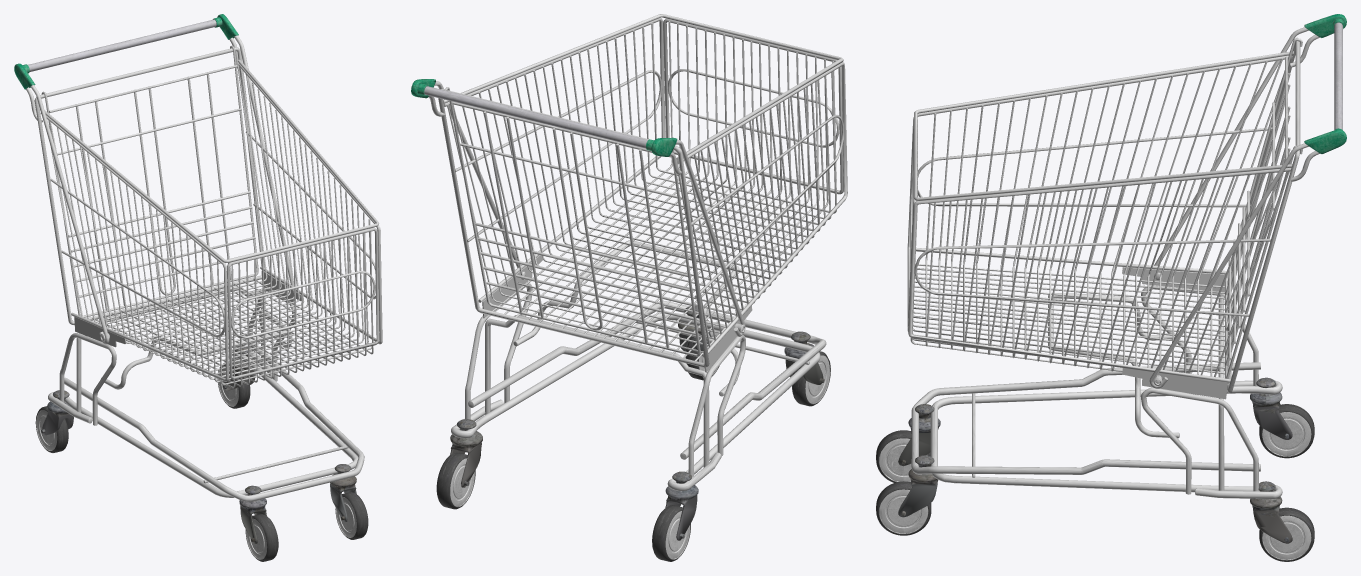
The model's file is trolley.opt.glb.
The picture shows the model from 3 angles, left to right: view 1: azimuth 30°, elevation 25°; view 2: azimuth 150°, elevation 25°; view 3: azimuth 270°, elevation 25°; orthographic projection. The views are drawn at different scales.
Parts seen in each view (by area): view 1: Basket_A, Basket_B; view 2: Basket_A, Basket_B; view 3: Basket_A, Basket_B.
Boxes of the visible parts, bbox=[...] form: Basket_A: bbox=[34, 47, 382, 561]; Basket_B: bbox=[14, 14, 373, 501]; Basket_A: bbox=[436, 14, 847, 561]; Basket_B: bbox=[411, 21, 836, 540]; Basket_A: bbox=[876, 37, 1314, 561]; Basket_B: bbox=[911, 14, 1346, 531].
Bounding box in the file's own units: 60.53 × 103 × 101.
1 material, 1 textured.
